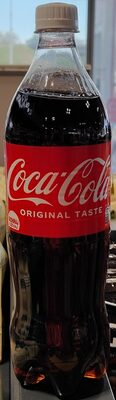Coca-Cola Original Taste: (6, 20, 110, 380)
